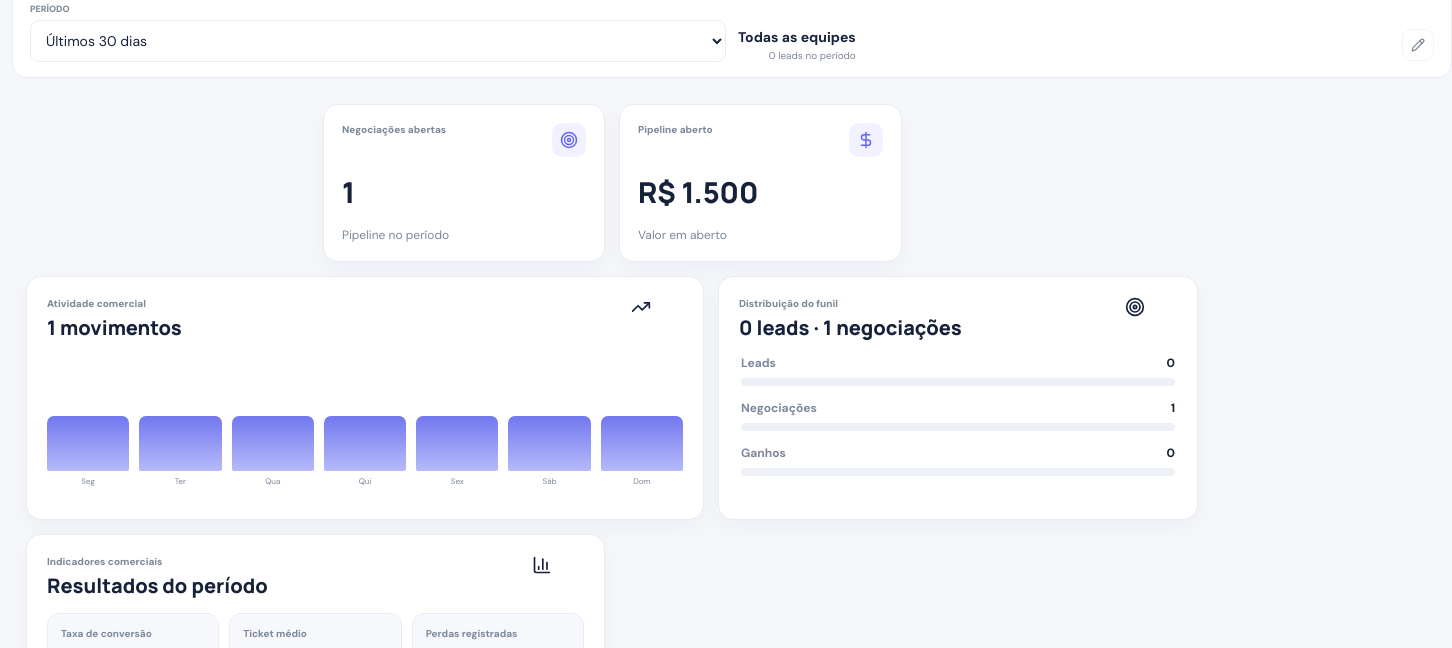
Test: dashboard card editor › discards an added card and pin changes when the user cancels
Select "Período personalizado" in the dropdown named "Período da visão geral" at [378, 41], box [30,20,726,62]
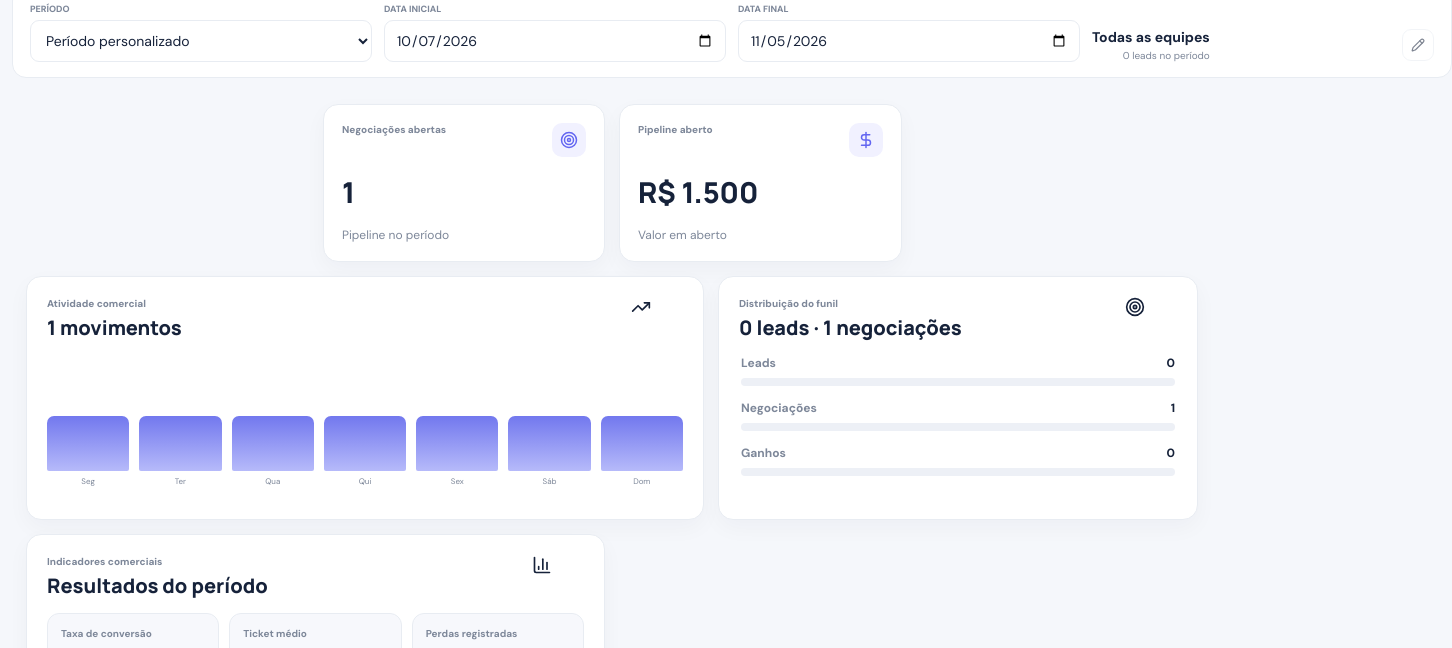
Type "2026-10-01" into the date field labelled "Data inicial" at [555, 41], box [384,20,726,62]
Type "2026-10-31" into the date field labelled "Data final" at [909, 41], box [738,20,1080,62]
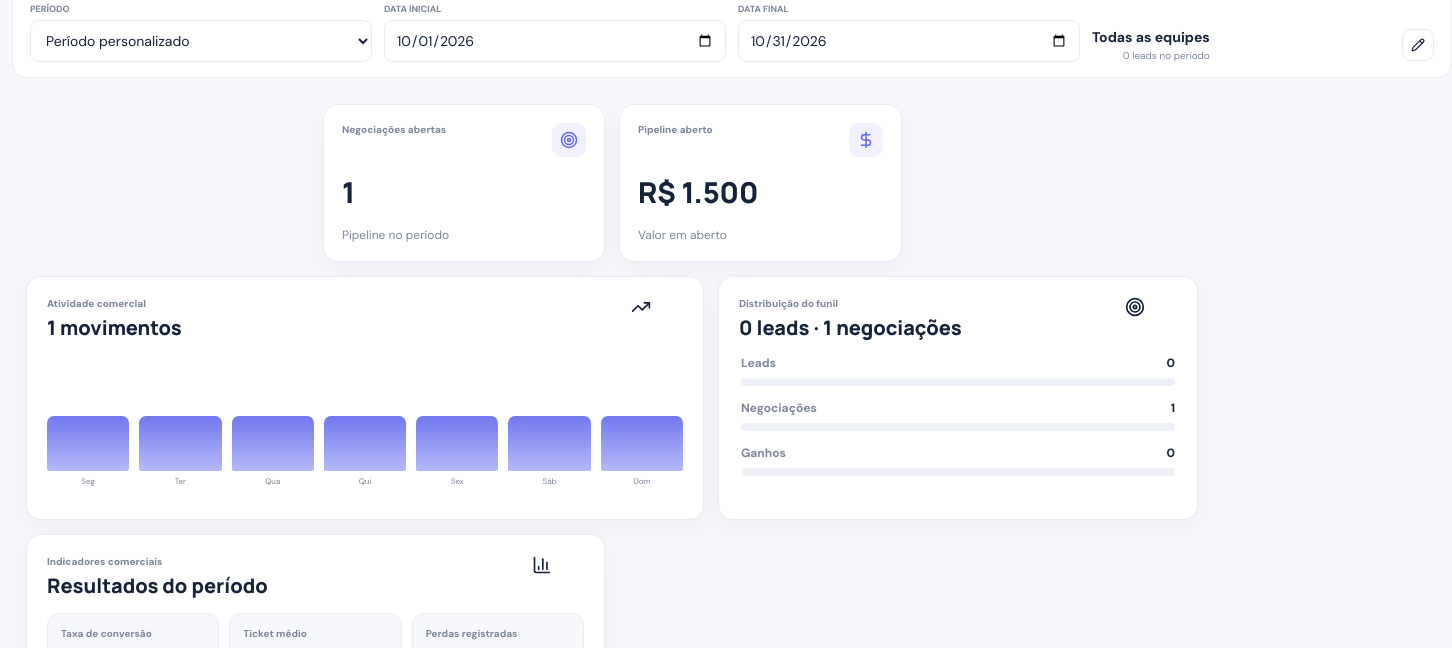
Click the button named "Editar visão geral" at [1418, 45], box [1402,29,1434,61]
(page scrolled)
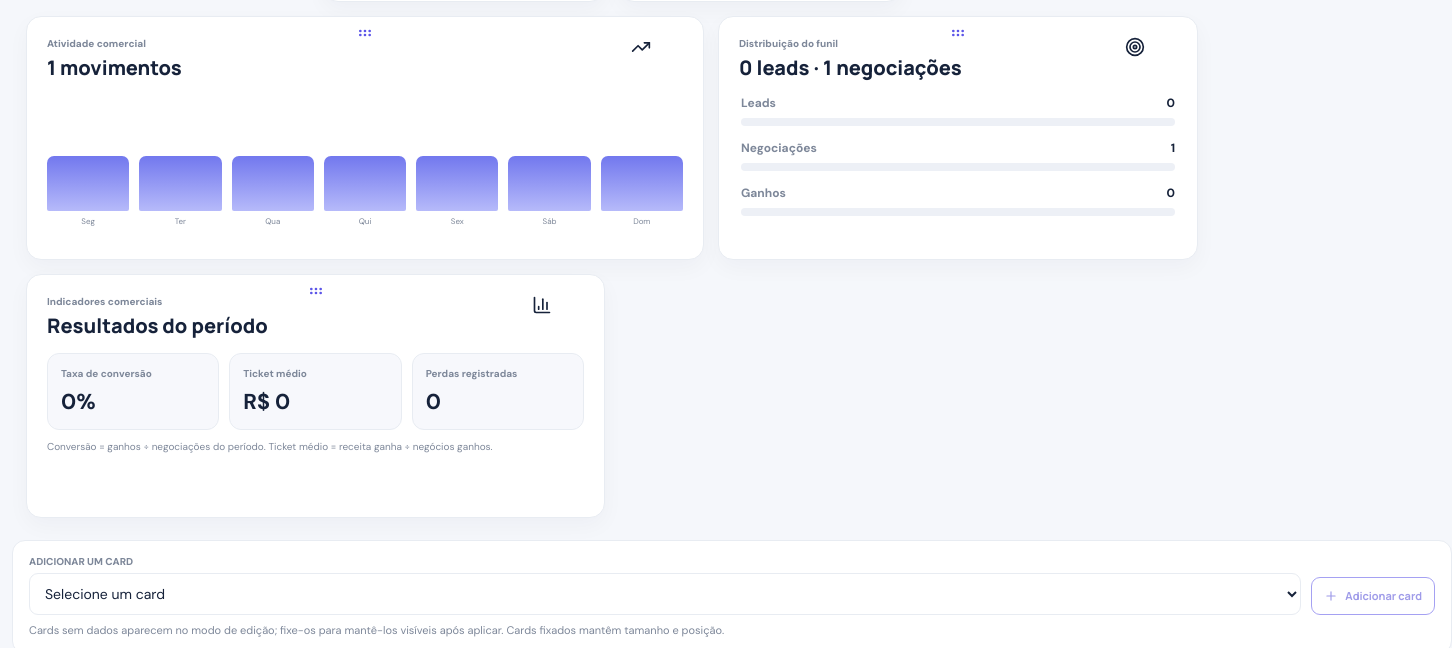
Select "Leads ativos" in the dropdown labelled "Adicionar um card" at [665, 594], box [29,573,1301,615]
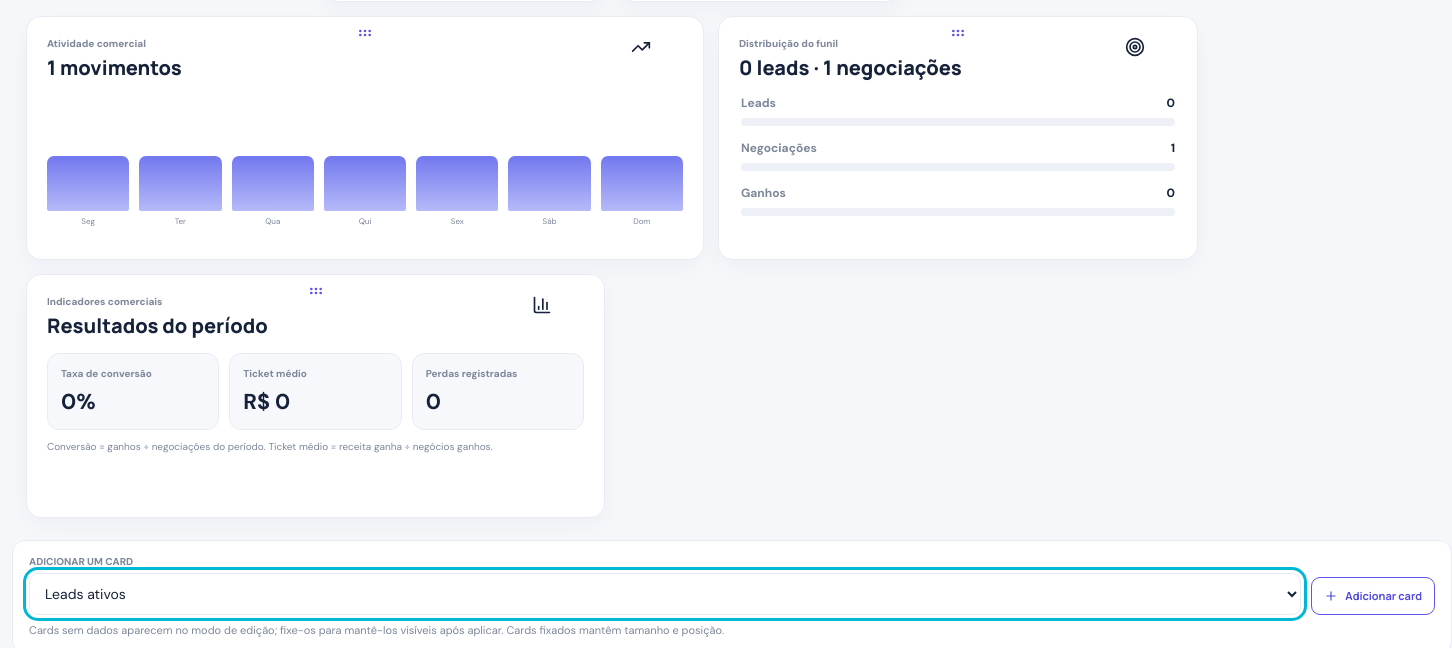
Click the button "Adicionar card" at [1373, 596], box [1311,577,1435,615]
(page scrolled)
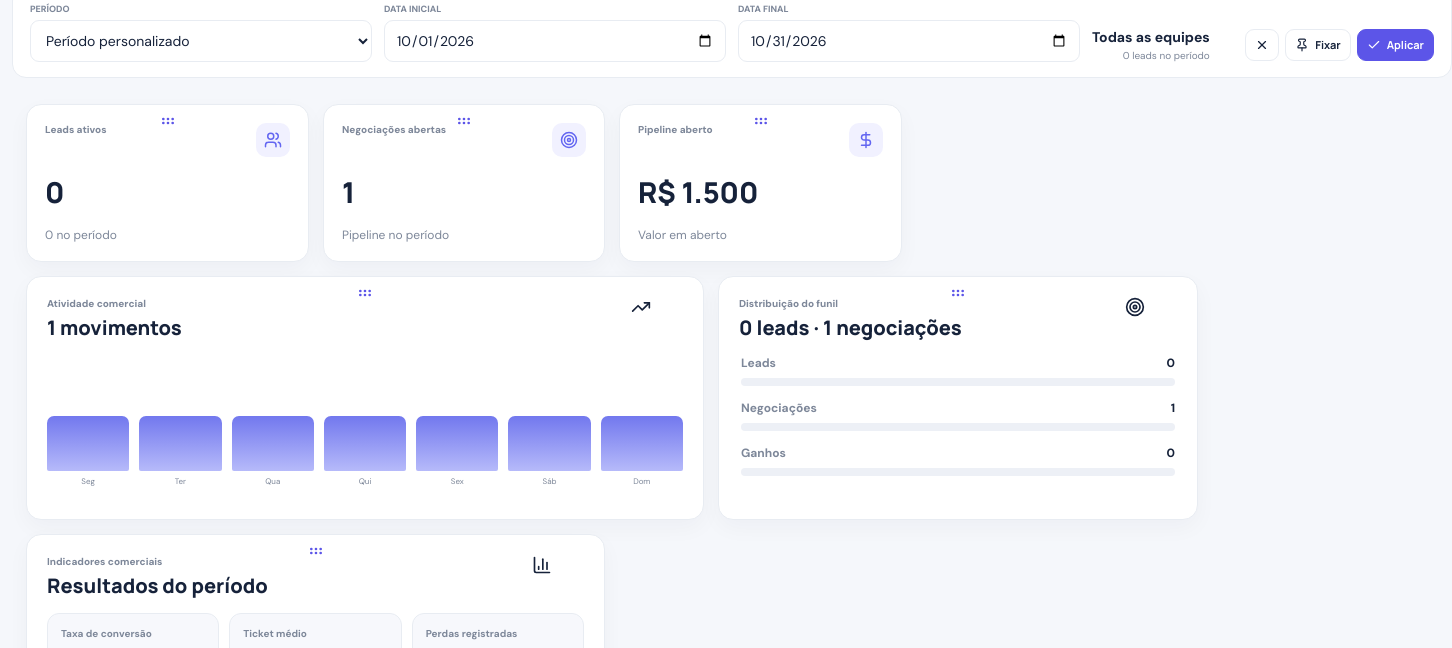
Check: the element with test id "dashboard-block-leads" is shown, box [26,104,309,262]
Click the button named "Cancelar edição" at [1262, 45], box [1245,29,1279,61]
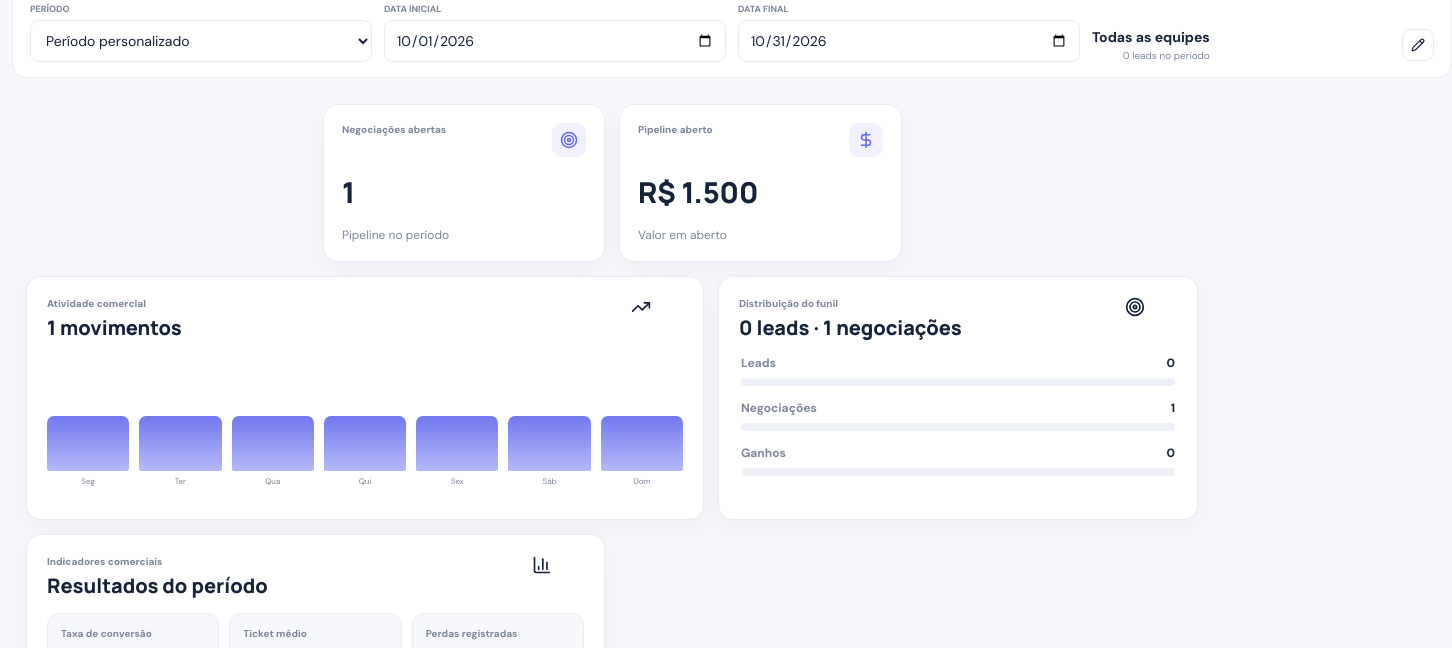
Check: the element with test id "dashboard-block-leads" is gone
